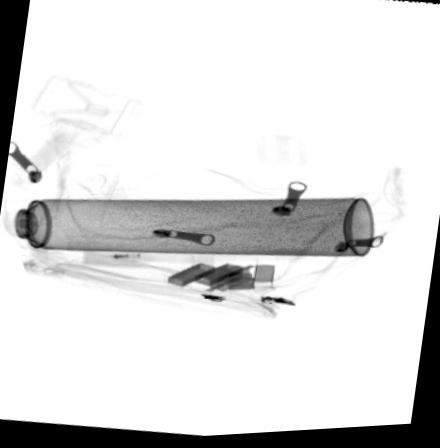Sprayer: (0, 196, 376, 262)
